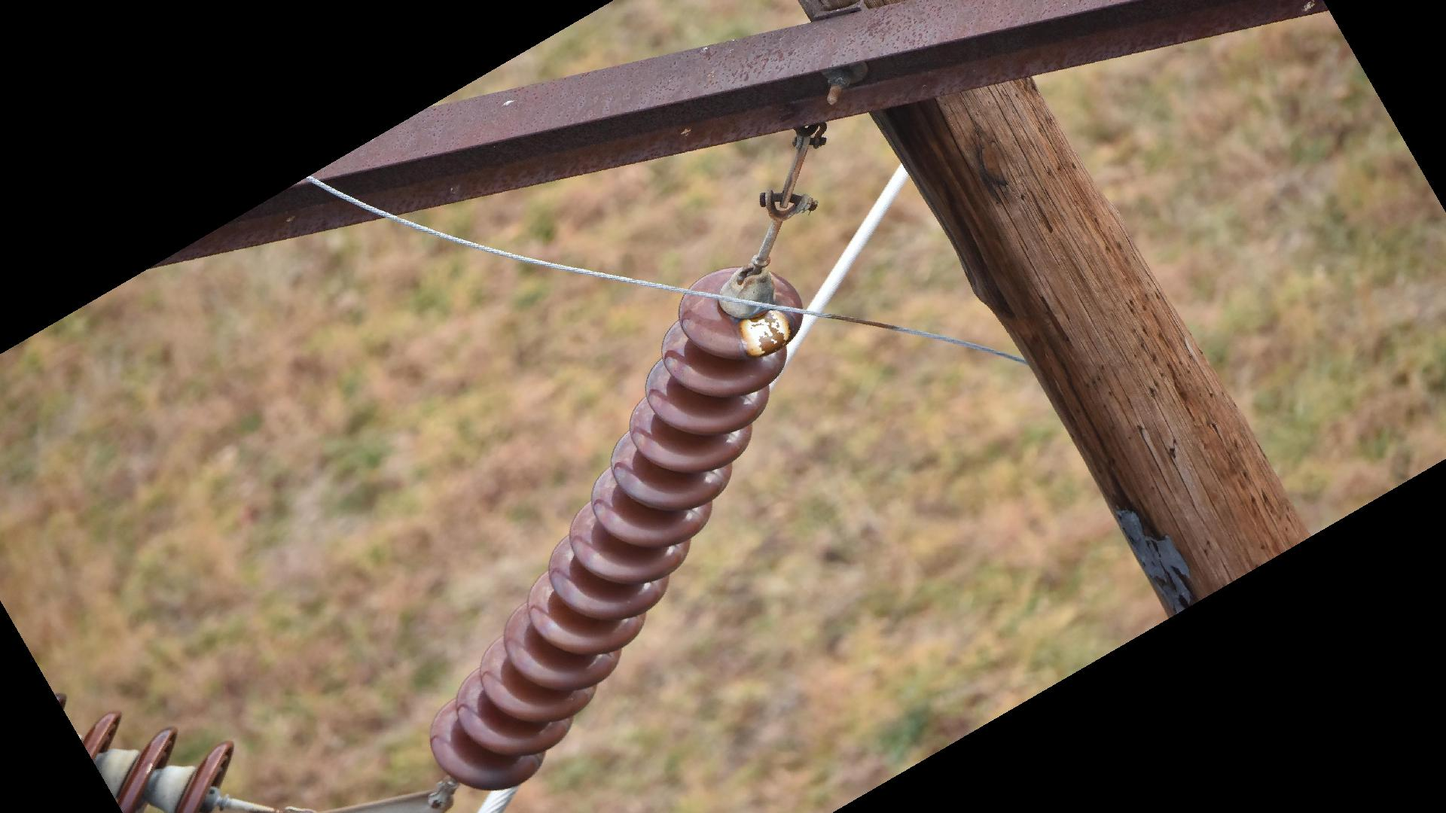insulator: (424, 260, 806, 795), (75, 707, 239, 813)
insulator_flashover: (737, 306, 795, 359)
